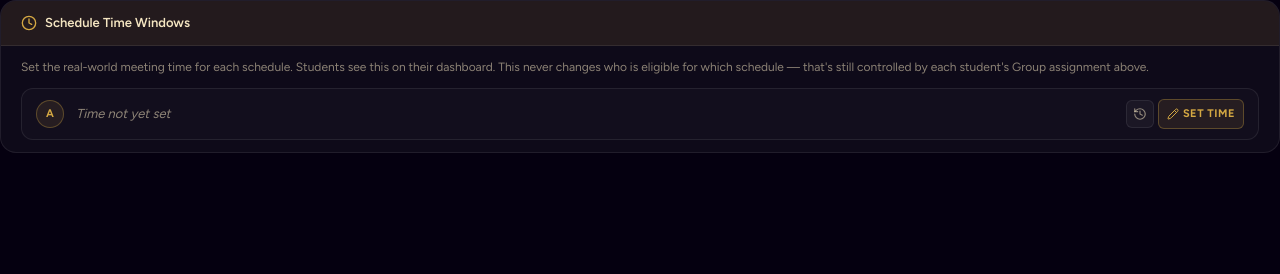
submitting with a blank field shows an inline error and never calls the backend
The image size is (1280, 274).
Click the button with test id "schedule-time-window-edit-A": (1201, 114) [1158,98,1244,129]
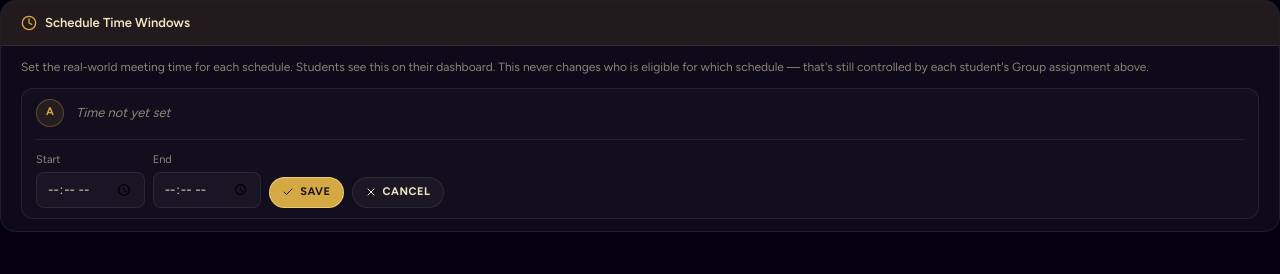
In the time field with test id "schedule-time-window-start-A": (90, 190) [36,172,145,208], type "07:00"
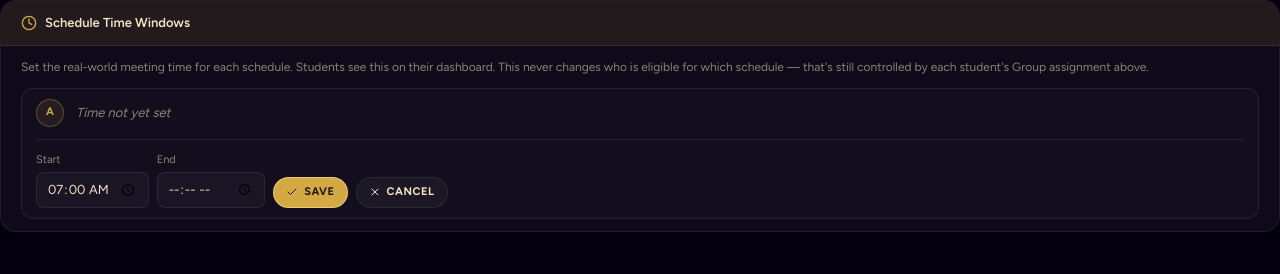
Click the button with test id "schedule-time-window-save-A": (310, 192) [273,177,348,208]
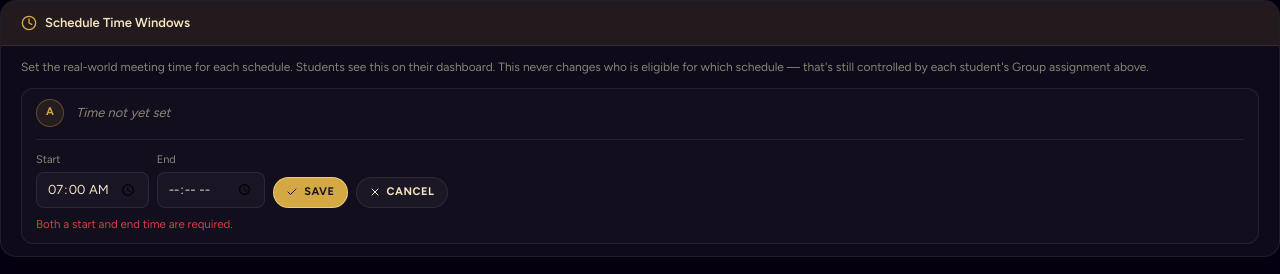
Expected: the text with test id "schedule-time-window-form-error-A" shows "required", [36,216,233,230]
